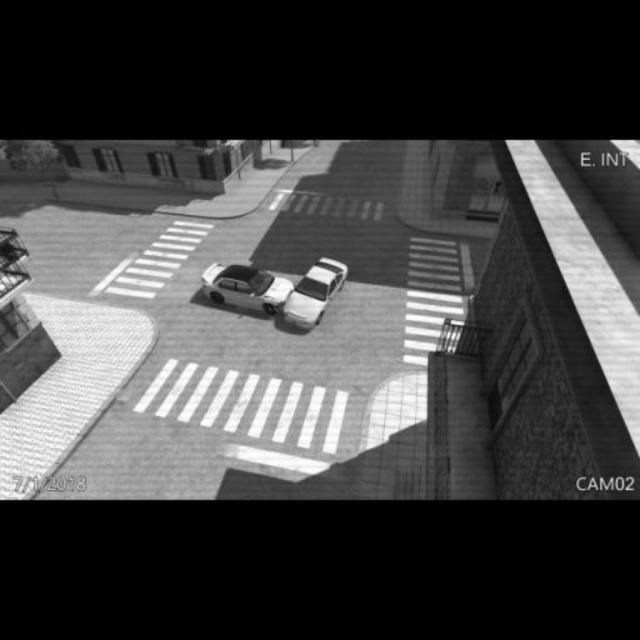accident: (197, 258, 345, 329)
